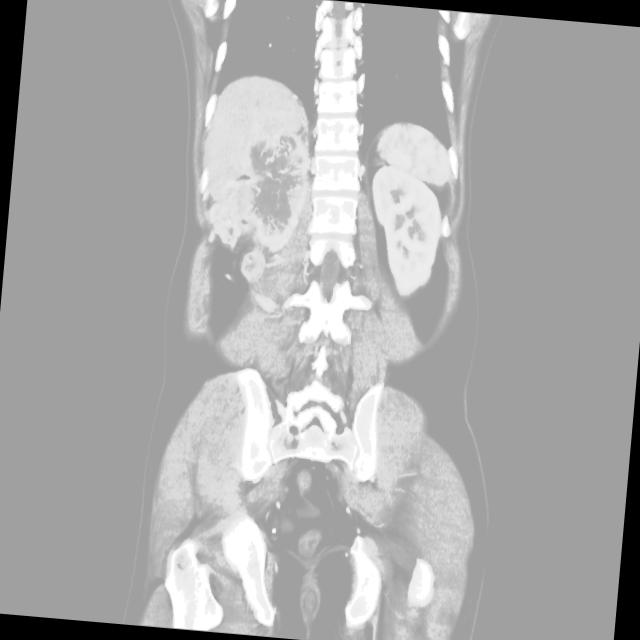TUMOR: (119, 74, 550, 348)
